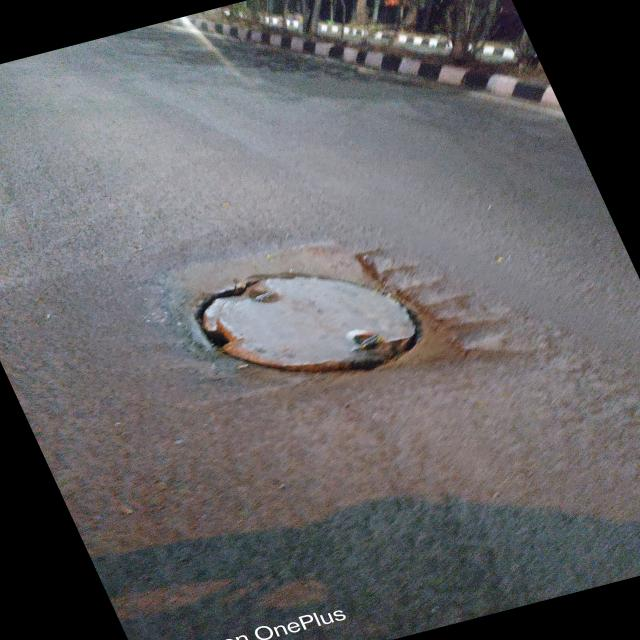manhole: (181, 237, 515, 386)
